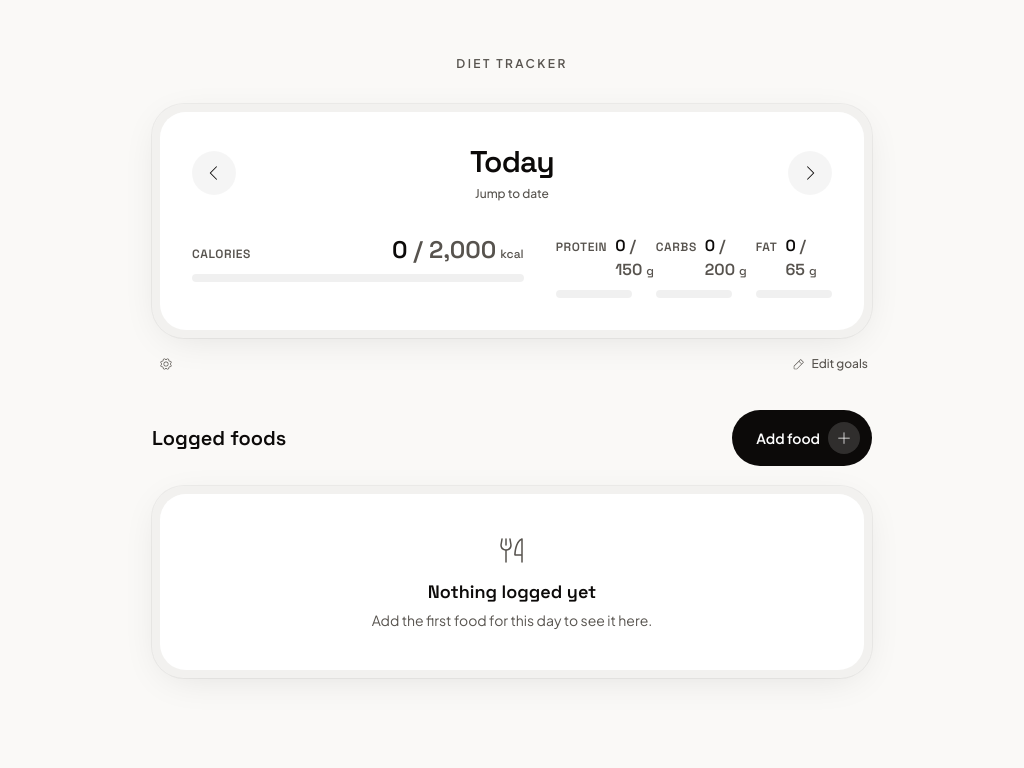
Test: App — health score wiring › closes the settings modal on Escape without saving
Click the button named "Health score settings". click: (166, 364)
box: [152,350,180,378]
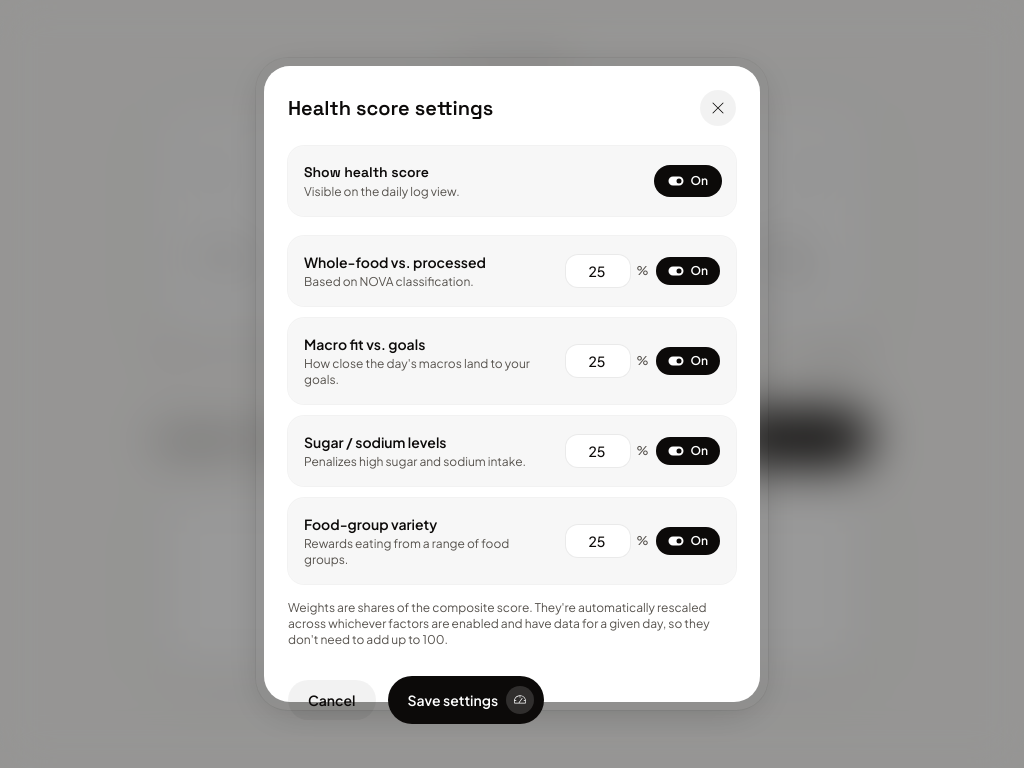
Expected: the dialog is shown, [256,58,768,710]
Press Escape
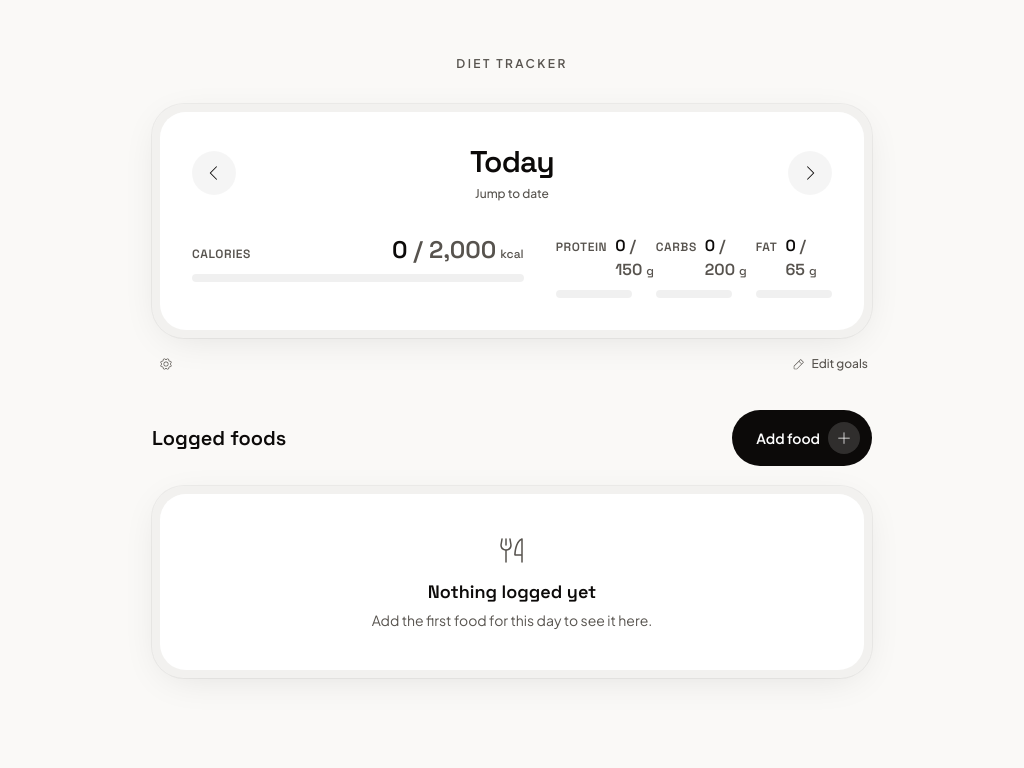
Expected: the dialog is gone
